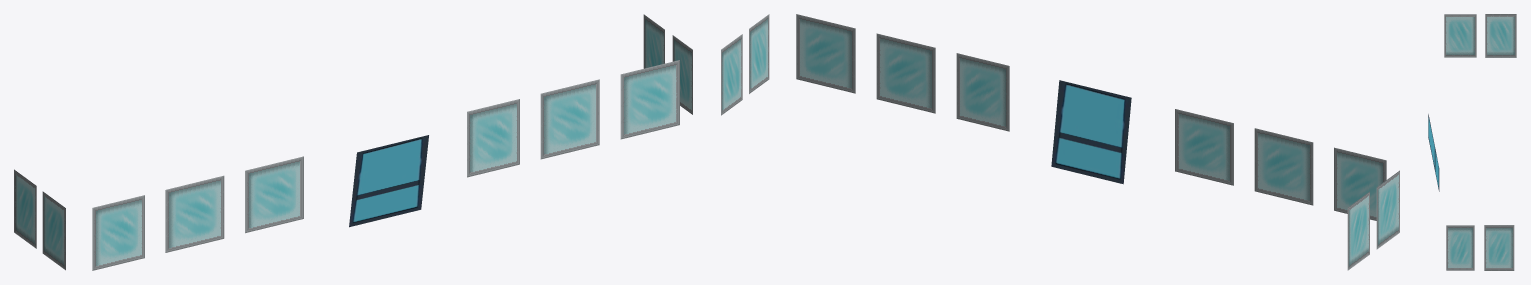
Rendered from Mr_SmoothieVidrios.obj.
The picture shows the model from 3 angles, left to right: view 1: azimuth 30°, elevation 25°; view 2: azimuth 150°, elevation 25°; view 3: azimuth 270°, elevation 25°; orthographic projection. The views are drawn at different scales.
Visible parts, largest first — view 1: Vidrios010, Vidrios001, Vidrios002, Vidrios006, Vidrios007, Vidrios, Vidrios005, Vidrios009, Vidrios008, Vidrios003, Vidrios004; view 2: Vidrios010, Vidrios001, Vidrios002, Vidrios006, Vidrios007, Vidrios, Vidrios005, Vidrios009, Vidrios004, Vidrios008, Vidrios003; view 3: Vidrios009, Vidrios004, Vidrios008, Vidrios003, Vidrios010.
Boxes of the visible parts, box(x1,y1,x2,y2) form: Vidrios010: box(349, 135, 428, 227); Vidrios001: box(540, 79, 599, 159); Vidrios002: box(620, 60, 679, 139); Vidrios006: box(165, 175, 224, 252); Vidrios007: box(245, 156, 303, 233); Vidrios: box(467, 99, 519, 177); Vidrios005: box(92, 195, 144, 270); Vidrios009: box(42, 191, 65, 270); Vidrios008: box(14, 169, 36, 248); Vidrios003: box(672, 35, 692, 114); Vidrios004: box(643, 14, 664, 68); Vidrios010: box(1051, 80, 1131, 184); Vidrios001: box(876, 33, 935, 113); Vidrios002: box(796, 14, 855, 93); Vidrios006: box(1254, 128, 1313, 205); Vidrios007: box(1175, 109, 1233, 185); Vidrios: box(956, 53, 1009, 131); Vidrios005: box(1334, 147, 1386, 220); Vidrios009: box(1376, 170, 1399, 249); Vidrios004: box(721, 34, 742, 115); Vidrios008: box(1347, 191, 1369, 270); Vidrios003: box(749, 14, 769, 93); Vidrios009: box(1444, 14, 1476, 57); Vidrios004: box(1484, 225, 1514, 270); Vidrios008: box(1485, 14, 1516, 57); Vidrios003: box(1446, 225, 1474, 270); Vidrios010: box(1428, 114, 1439, 191).
Bounding box in the file's own units: 77.16 × 10.43 × 13.51.
